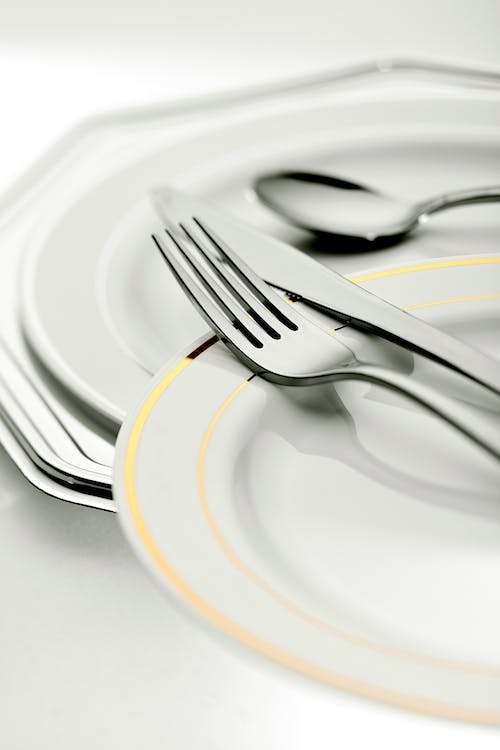knife: (143, 182, 500, 401)
